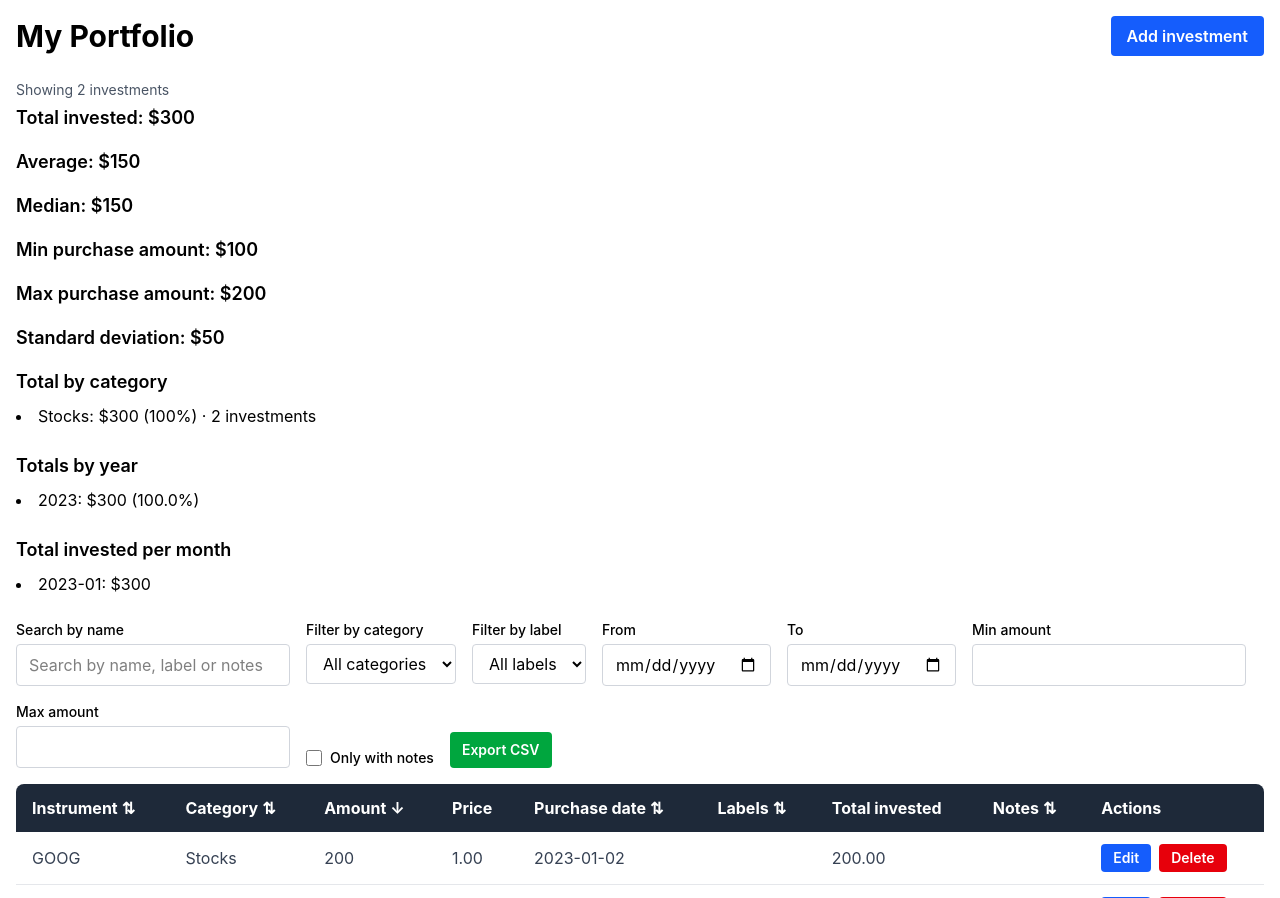
it: HomePage › total invested summary › shows "Total invested (filtered): $0" when an active search matches no investments
Type "no-such-instrument" into the field labelled "Search by name" at (153, 665), box [16,644,290,686]
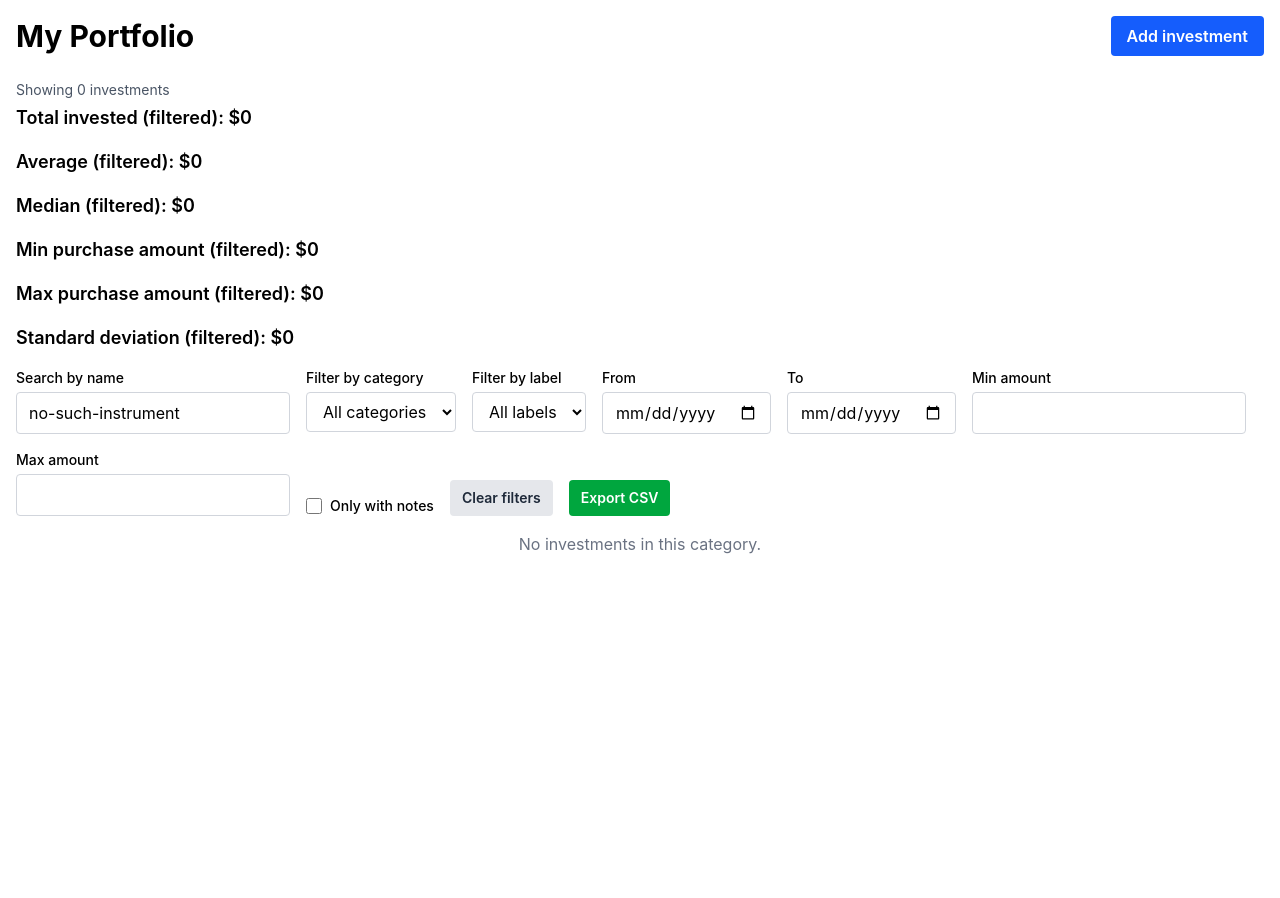
Expected: the text "Total invested (filtered): $0" is shown, [16,107,252,128]
